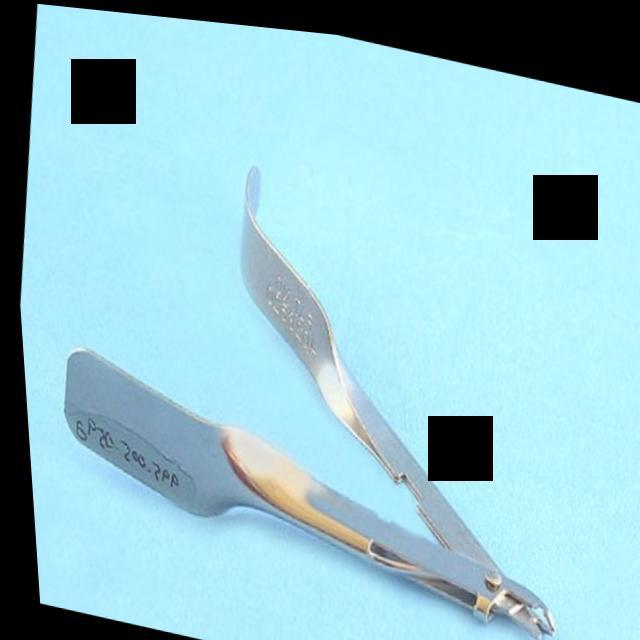Stapler Remover: (26, 108, 598, 640)
